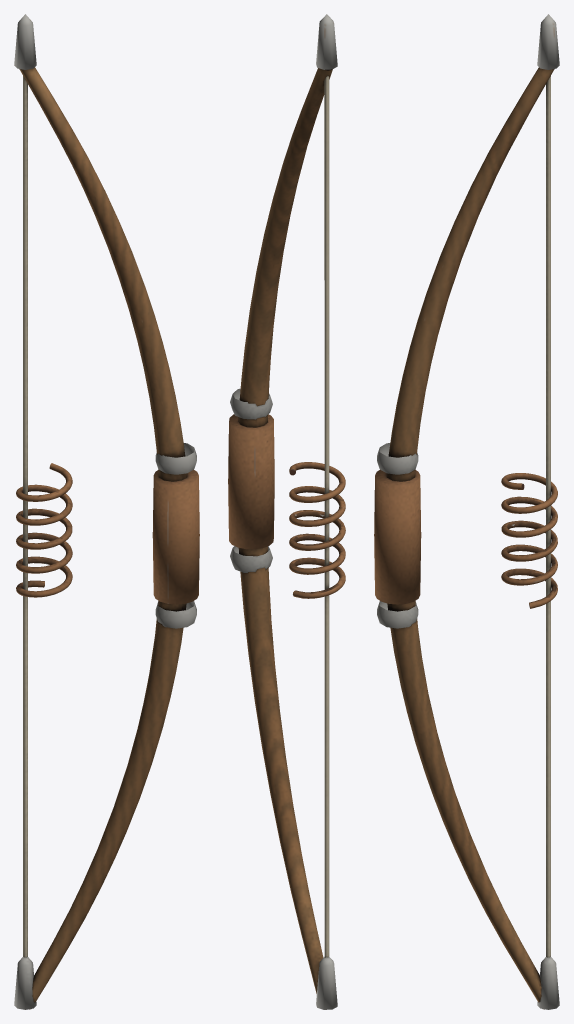
File: arma_arco_curto_comum.glb
3 views of the same model, side by side, from view 1: azimuth 90°, elevation 25°; view 2: azimuth 210°, elevation 25°; view 3: azimuth 270°, elevation 25° (orthographic).
Parts seen in each view (by area): view 1: arma_arco_curto_comum; view 2: arma_arco_curto_comum; view 3: arma_arco_curto_comum.
Part boxes in pixels (x1=…): arma_arco_curto_comum: x1=14, y1=14, x2=199, y2=1009; arma_arco_curto_comum: x1=228, y1=14, x2=345, y2=1009; arma_arco_curto_comum: x1=374, y1=14, x2=559, y2=1009.
Size of the model in its own units: 0.0606 by 1.16 by 0.197.
Materials: 1 (1 with a texture image).
